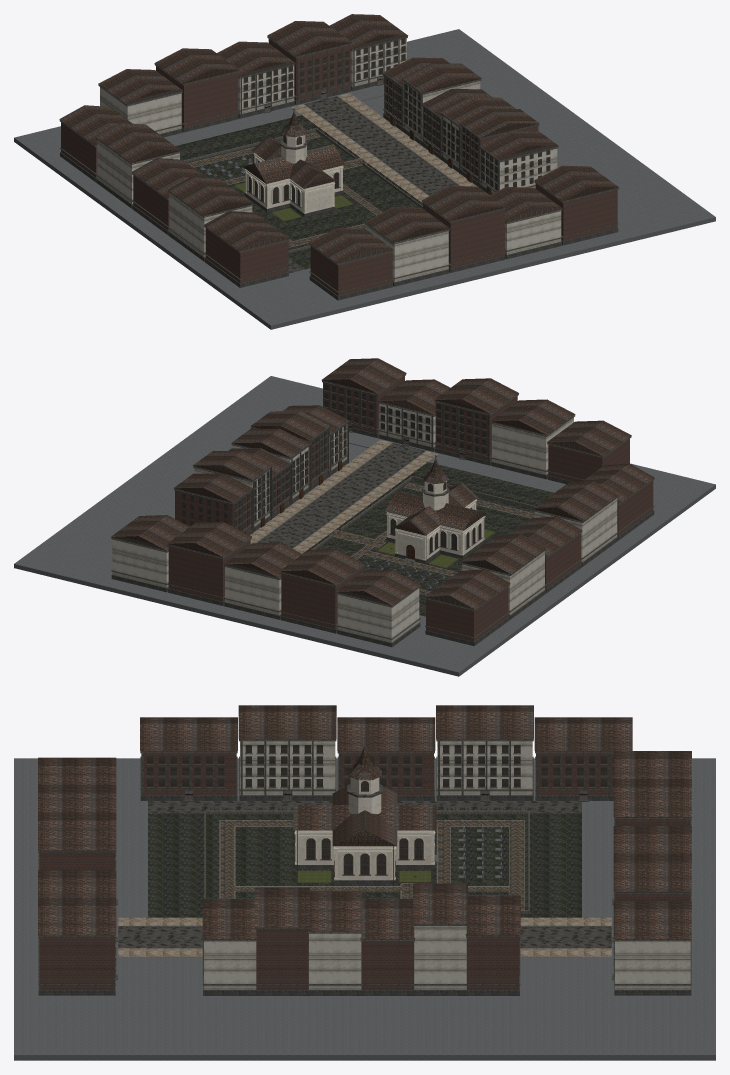
Rendered from church.gltf.
3 views of the same model, one above another, from view 1: azimuth 30°, elevation 25°; view 2: azimuth 150°, elevation 25°; view 3: azimuth 270°, elevation 25° (orthographic). The views are drawn at different scales.
Parts seen in each view (by area): view 1: Map_3_-1_0, Map_-4_-1_0, Map_-4_0_2, Map_0_-1_0, Map_-1_0_3, Map_0_0_-4, Map_-3_0_3, Map_-2_0_-4, Map_-2_0_3, Map_2_0_3, Map_1_0_0, Map_-2_0_0 (+23 smaller); view 2: Map_3_-1_0, Map_-4_-1_0, Map_0_-1_0, Map_-3_0_-4, Map_-4_0_-3, Map_-2_0_-4, Map_0_0_-4, Map_-1_0_3, Map_1_0_0, Map_-2_0_3, Map_-1_-1_-4, Map_-1_0_-4 (+24 smaller); view 3: Map_3_-1_0, Map_1_0_0, Map_-2_-1_2, Map_-2_-1_-3, Map_-4_0_-2, Map_1_0_-1, Map_-4_0_0, Map_-1_-1_0, Map_-4_0_2, Map_2_0_3, Map_2_0_-4, Map_-4_0_-3 (+34 smaller).
Boxes of the visible parts, x1,y1,x2,y2 form: Map_3_-1_0: (407, 29, 715, 240); Map_-4_-1_0: (14, 126, 334, 329); Map_-4_0_2: (204, 211, 289, 287); Map_0_-1_0: (302, 104, 458, 202); Map_-1_0_3: (421, 185, 506, 272); Map_0_0_-4: (267, 21, 351, 104); Map_-3_0_3: (309, 228, 393, 300); Map_-2_0_-4: (154, 48, 239, 132); Map_-2_0_3: (365, 207, 449, 286); Map_2_0_3: (534, 165, 618, 245); Map_1_0_0: (439, 97, 539, 187); Map_-2_0_0: (243, 144, 345, 216); Map_3_-1_0: (14, 376, 322, 587); Map_-4_-1_0: (395, 469, 715, 676); Map_0_-1_0: (258, 451, 426, 553); Map_-3_0_-4: (336, 570, 420, 647); Map_-4_0_-3: (424, 569, 510, 645); Map_-2_0_-4: (280, 549, 364, 633); Map_0_0_-4: (167, 522, 251, 605); Map_-1_0_3: (434, 378, 518, 465); Map_1_0_0: (231, 411, 330, 505); Map_-2_0_3: (490, 399, 575, 479); Map_-1_-1_-4: (94, 571, 424, 658); Map_-1_0_-4: (223, 542, 302, 619); Map_3_-1_0: (14, 1001, 715, 1060); Map_1_0_0: (255, 887, 362, 995); Map_-2_-1_2: (118, 806, 220, 917); Map_-2_-1_-3: (524, 806, 611, 917); Map_-4_0_-2: (436, 705, 533, 800); Map_1_0_-1: (360, 883, 467, 995); Map_-4_0_0: (238, 705, 360, 800); Map_-1_-1_0: (148, 870, 581, 1000); Map_-4_0_2: (140, 717, 237, 800); Map_2_0_3: (38, 897, 116, 995); Map_2_0_-4: (613, 901, 691, 995); Map_-4_0_-3: (534, 717, 632, 800).
Bounding box in the file's own units: 271 × 52.98 × 271.
Materials: 31 (31 with a texture image).
